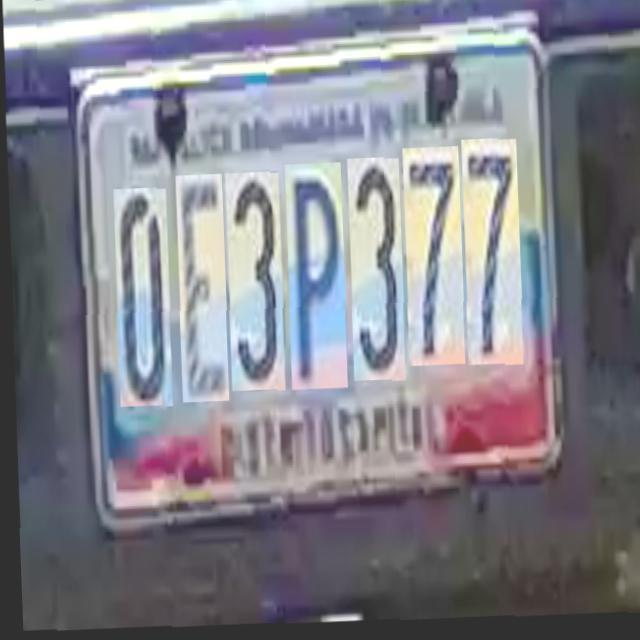0: (111, 189, 170, 408)
3: (344, 157, 402, 381), (223, 172, 282, 392)
7: (459, 138, 521, 364), (400, 146, 462, 365)
E: (173, 174, 226, 403)
P: (282, 162, 344, 390)
